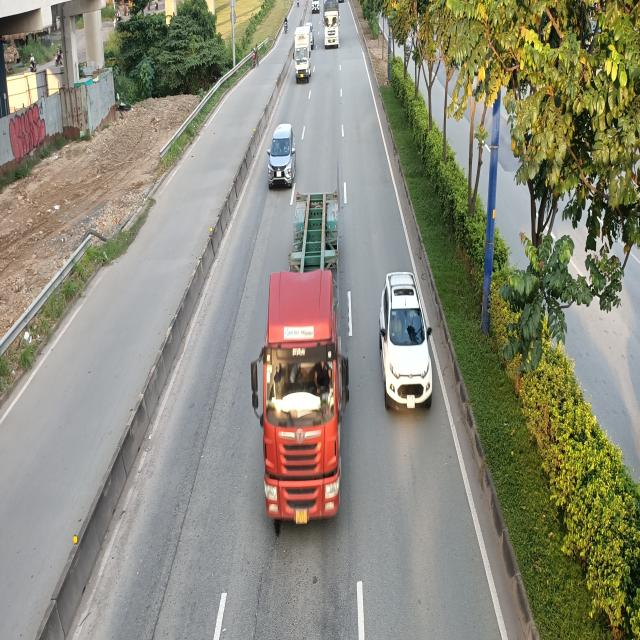car: (382, 273, 436, 415), (268, 122, 297, 187)
container: (247, 194, 348, 532)
truck: (292, 27, 312, 84), (322, 0, 340, 49)
